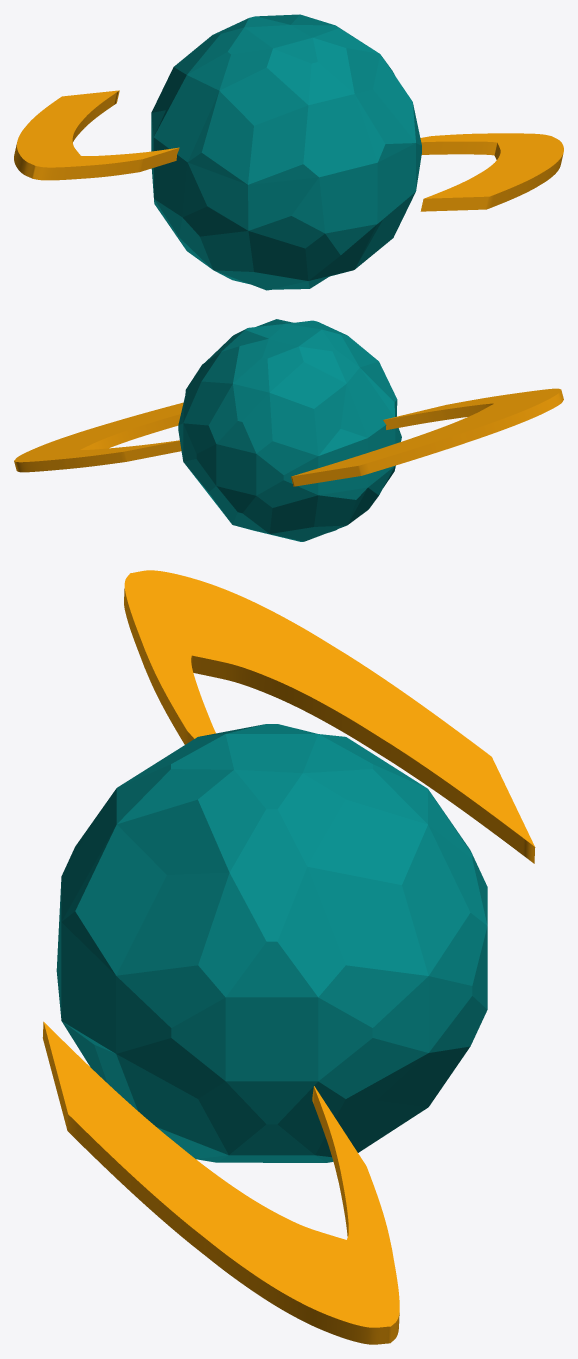
Rendered from colorPlanet.glb.
3 renders of one model, top to bottom at view 1: azimuth 30°, elevation 25°; view 2: azimuth 150°, elevation 25°; view 3: azimuth 270°, elevation 25°, orthographic. The views are drawn at different scales.
Parts seen in each view (by area): view 1: Sphere, path3013.002; view 2: Sphere, path3013.002; view 3: Sphere, path3013.002.
Boxes of the visible parts, bbox=[...] form: Sphere: bbox=[151, 14, 421, 290]; path3013.002: bbox=[14, 90, 563, 211]; Sphere: bbox=[178, 319, 401, 541]; path3013.002: bbox=[14, 388, 563, 486]; Sphere: bbox=[56, 724, 487, 1162]; path3013.002: bbox=[42, 570, 535, 1344].
Size of the model in its own units: 4.99 by 1.9 by 2.18.
